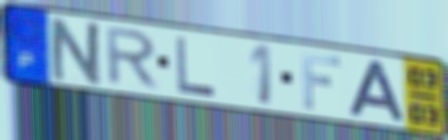1: (247, 42, 273, 108)
A: (346, 57, 409, 124)
F: (298, 50, 343, 112)
L: (173, 34, 219, 99)
N: (49, 15, 106, 89)
R: (104, 26, 162, 91)
